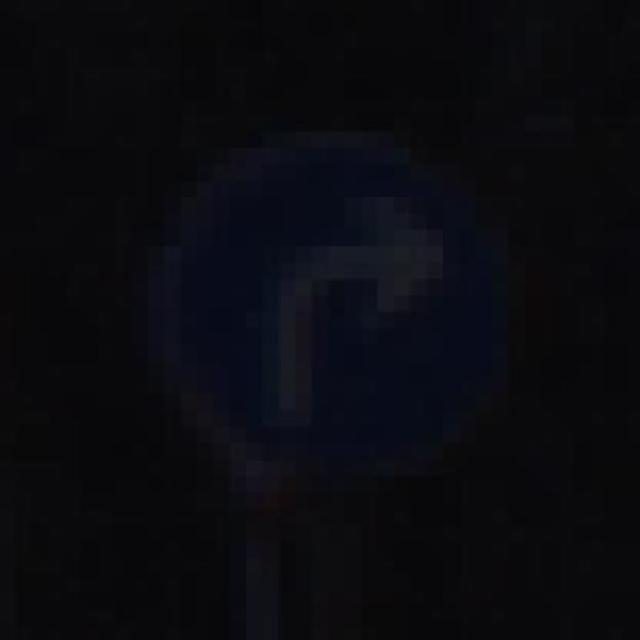Turn right ahead: (114, 114, 592, 526)
